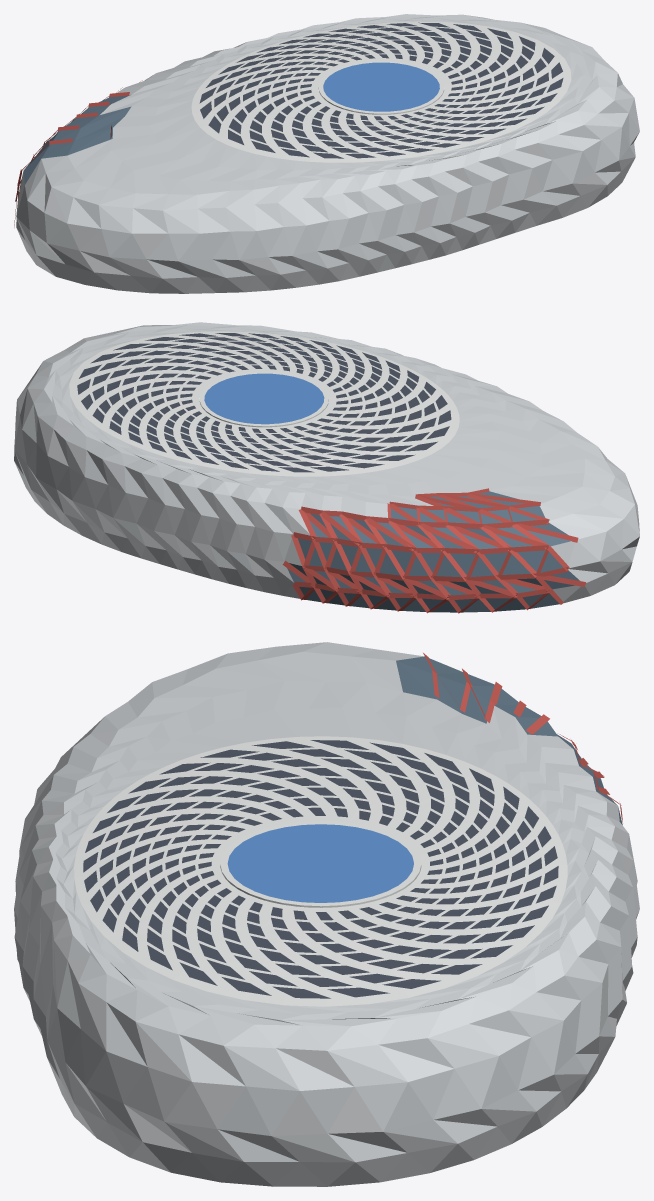
3 views of the same model, one above another, from view 1: azimuth 30°, elevation 25°; view 2: azimuth 150°, elevation 25°; view 3: azimuth 270°, elevation 25° (orthographic). The views are drawn at different scales.
Visible parts, largest first — view 1: intuit-dome; view 2: intuit-dome; view 3: intuit-dome.
Boxes of the visible parts, x1,y1,x2,y2 form: intuit-dome: [14, 14, 639, 293]; intuit-dome: [14, 322, 639, 613]; intuit-dome: [14, 642, 639, 1186].
Size of the model in its own units: 234 by 36.9 by 137.
